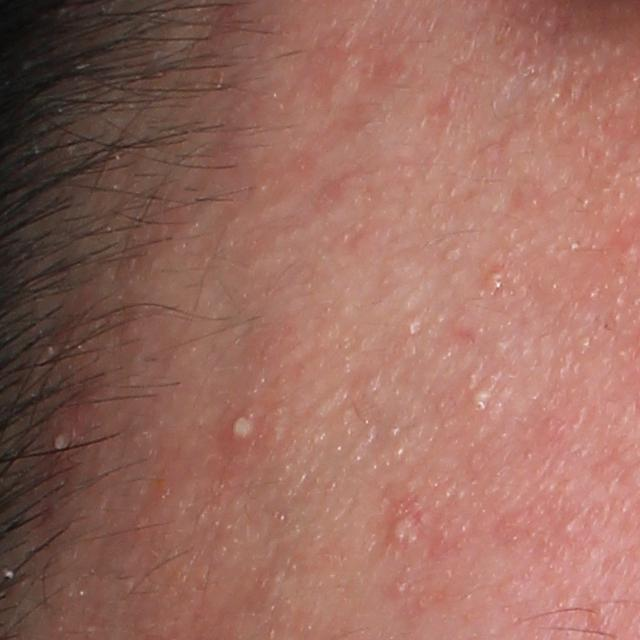pustule: (378, 506, 434, 556), (38, 419, 84, 472), (223, 398, 261, 447), (465, 380, 498, 416)
